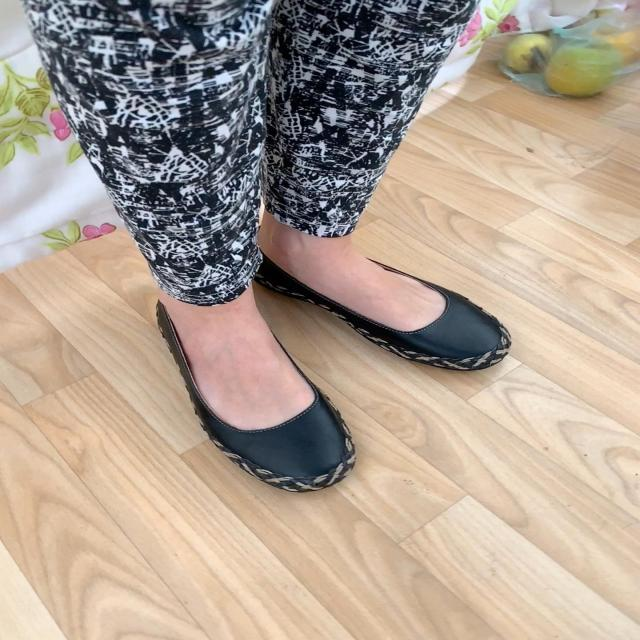shoe: (260, 217, 512, 371), (161, 295, 352, 488)
